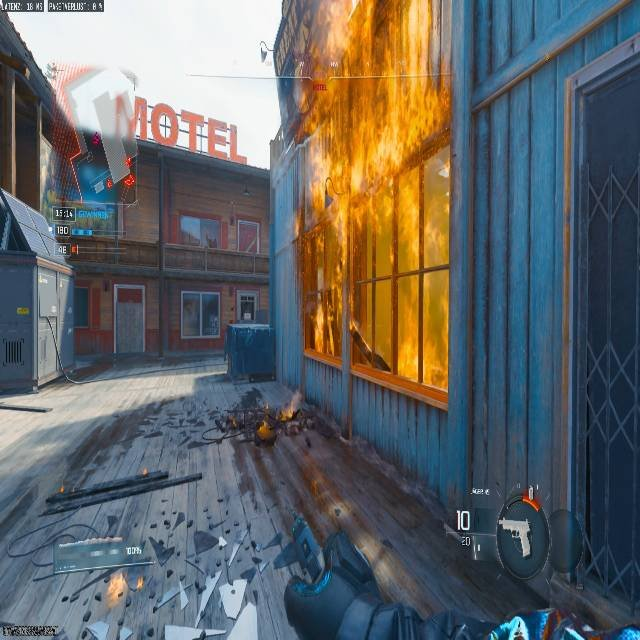head: (256, 422, 277, 445)
